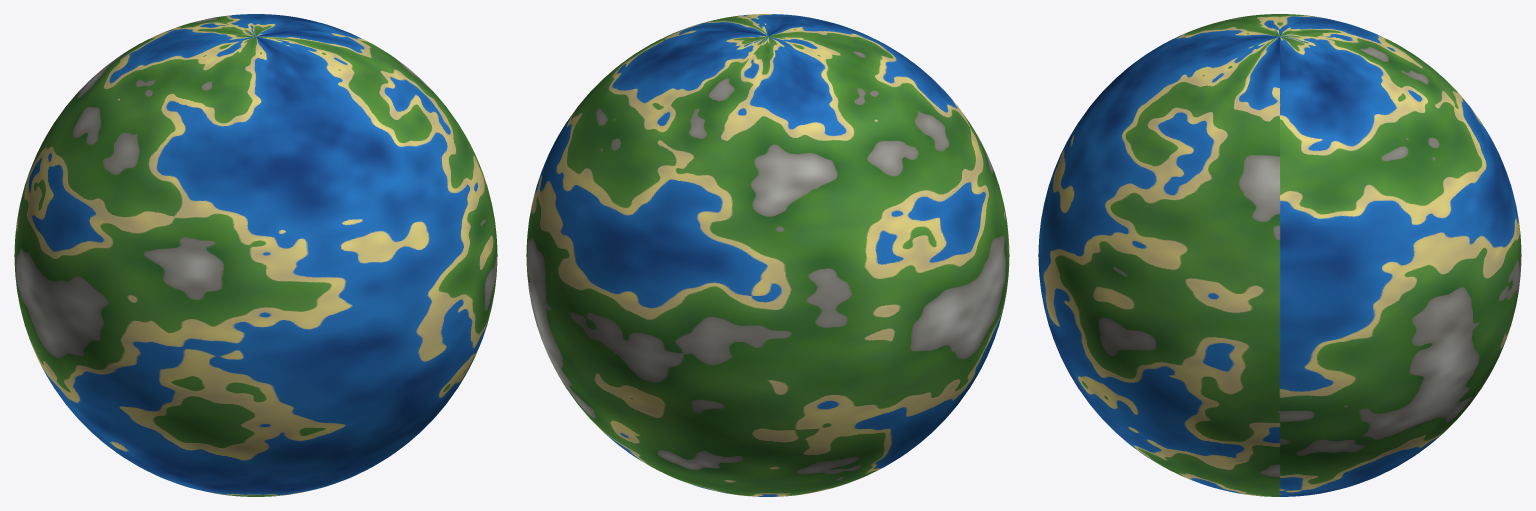
The model's file is sample.glb.
3 renders of one model, left to right at view 1: azimuth 30°, elevation 25°; view 2: azimuth 150°, elevation 25°; view 3: azimuth 270°, elevation 25°, orthographic.
Parts seen in each view (by area): view 1: globe; view 2: globe; view 3: globe.
Part boxes in pixels (left/top/right/bottom): globe: left=14, top=14, right=497, bottom=496; globe: left=526, top=14, right=1009, bottom=496; globe: left=1038, top=14, right=1521, bottom=496.
Size of the model in its own units: 2 by 2 by 2.
Materials: 1 (1 with a texture image).
